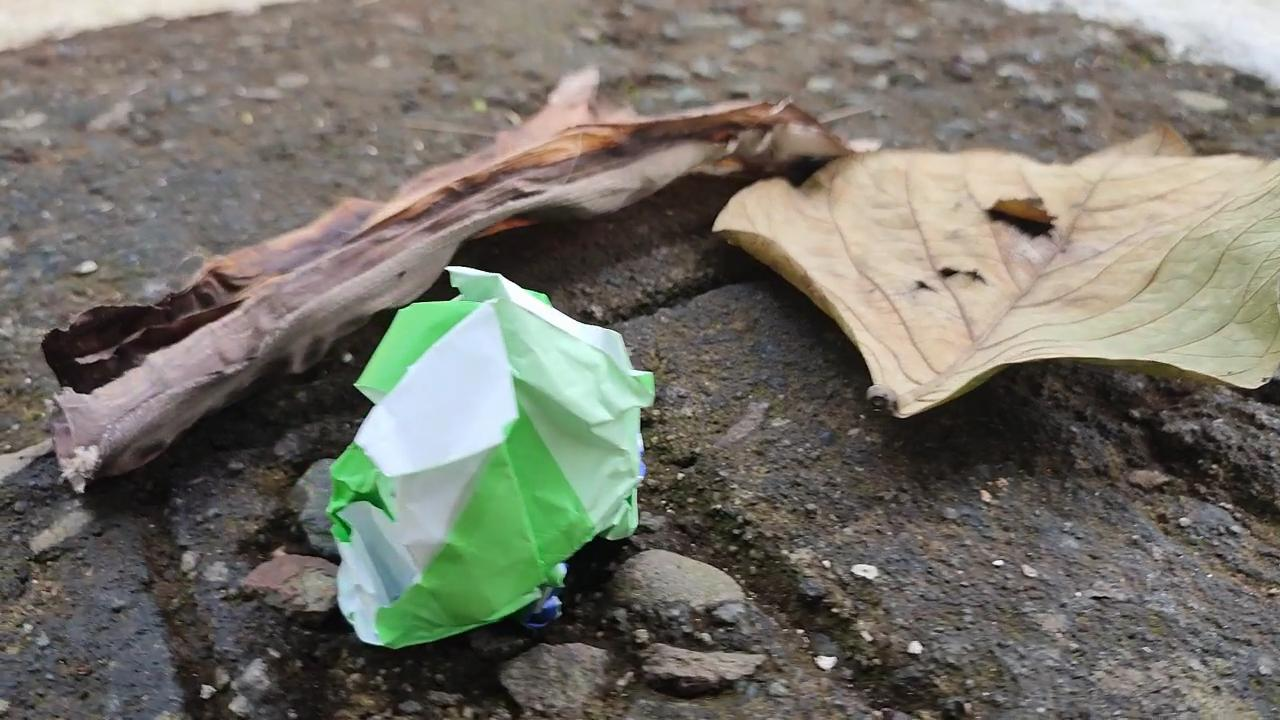Paper: (321, 261, 673, 641)
